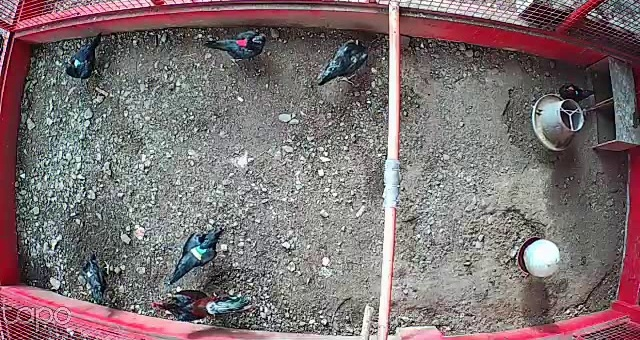Chicken: (310, 37, 379, 94), (166, 222, 224, 285), (202, 28, 269, 67), (63, 30, 108, 83), (80, 245, 119, 306), (550, 83, 596, 101)
Rooster: (145, 288, 255, 327)
Saddle_Color_Red: (237, 40, 248, 46)
Saddle_Color_YellowGreen: (191, 244, 207, 261)
